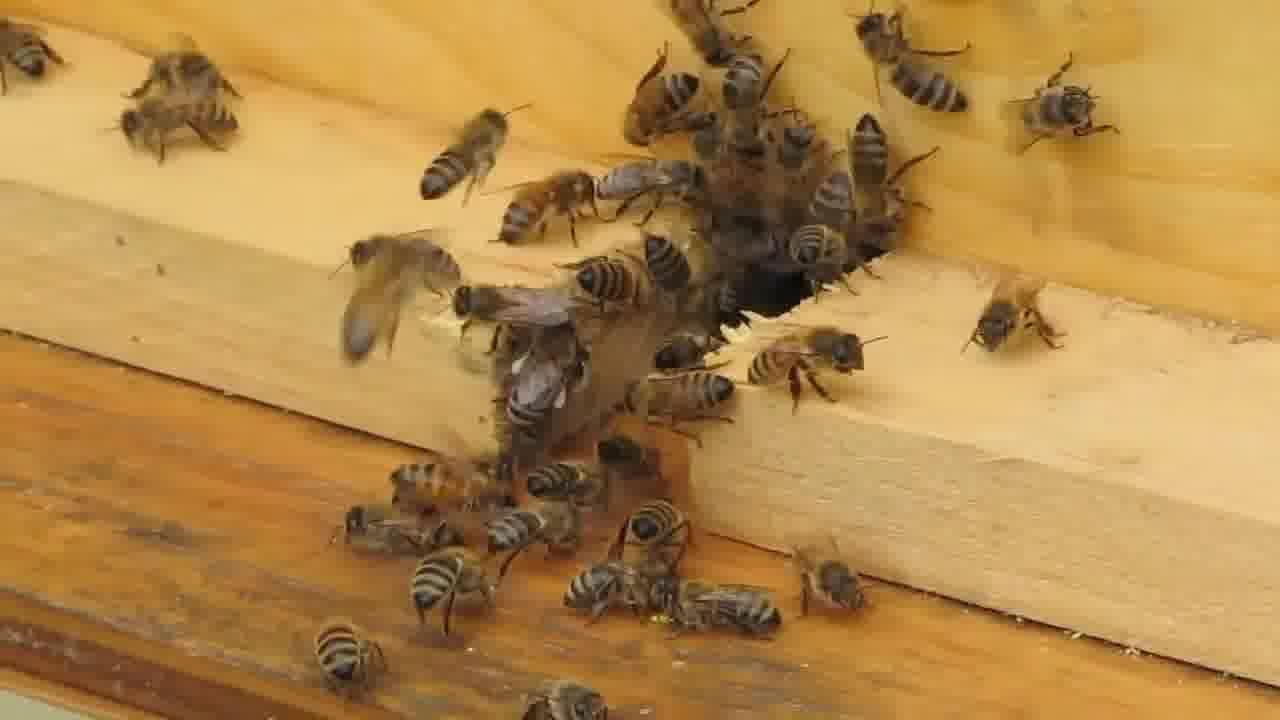pollen: (506, 319, 584, 441)
